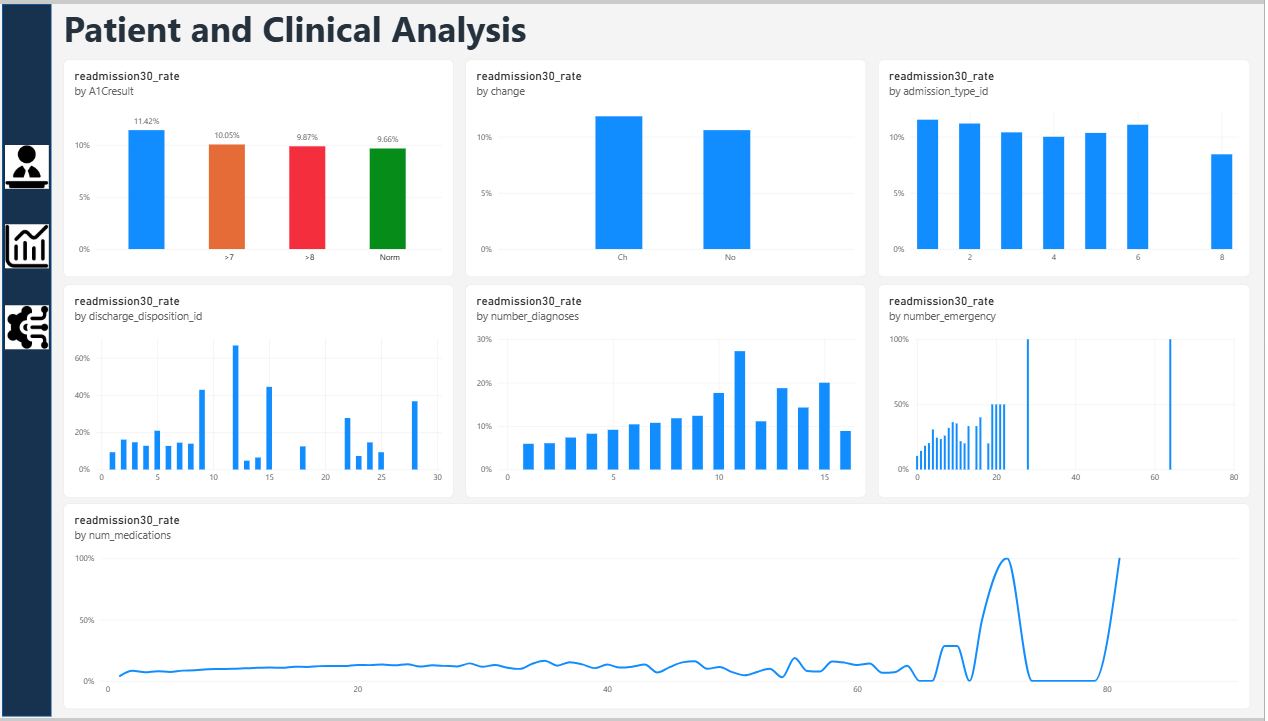

Layout of this report page (visuals, bound fields, positions):
{"tool":"powerbi","page":{"name":"Patient and Clinical Analysis","canvas":[1920,1080],"ordinal":1},"visuals":[{"type":"shape","box":[9.1,0,75,1078.9],"z":0},{"type":"textbox","box":[102.2,0,1063,84],"z":2000},{"type":"clusteredColumnChart","fields":{"Category":["diabetic_data_with_diagnosis_category.A1Cresult"],"Y":["diabetic_data_with_diagnosis_category.readmission30_rate"]},"box":[102.2,84,590.5,329.3],"z":3000},{"type":"clusteredColumnChart","fields":{"Category":["diabetic_data_with_diagnosis_category.admission_type_id"],"Y":["diabetic_data_with_diagnosis_category.readmission30_rate"]},"box":[1335.5,84,563.3,329.3],"z":4000},{"type":"clusteredColumnChart","fields":{"Category":["diabetic_data_with_diagnosis_category.change"],"Y":["diabetic_data_with_diagnosis_category.readmission30_rate"]},"box":[710.9,84,606.4,329.3],"z":5000},{"type":"clusteredColumnChart","fields":{"Category":["diabetic_data_with_diagnosis_category.discharge_disposition_id"],"Y":["diabetic_data_with_diagnosis_category.readmission30_rate"]},"box":[102.2,424.7,590.5,322.5],"z":6000},{"type":"clusteredColumnChart","fields":{"Category":["diabetic_data_with_diagnosis_category.number_diagnoses"],"Y":["diabetic_data_with_diagnosis_category.readmission30_rate"]},"box":[710.9,424.7,606.4,322.5],"z":7000},{"type":"lineChart","fields":{"Category":["diabetic_data_with_diagnosis_category.num_medications"],"Y":["diabetic_data_with_diagnosis_category.readmission30_rate"]},"box":[102.2,756.3,1796.6,311.2],"z":8000},{"type":"clusteredColumnChart","fields":{"Category":["diabetic_data_with_diagnosis_category.number_emergency"],"Y":["diabetic_data_with_diagnosis_category.readmission30_rate"]},"box":[1335.5,424.7,563.3,322.5],"z":9000},{"type":"image","box":[13.6,213.5,65.9,65.9],"z":10000},{"type":"image","box":[13.6,333.9,65.9,65.9],"z":11000},{"type":"image","box":[13.6,456.5,65.9,65.9],"z":12000}]}

Visuals, with their boxes on the page's 1920x1080 design canvas (x1, y1, x2, y2). These are canvas units, not pixel positions in the 1268x721 screenshot, which may show the page scaled, cropped or inside an application window:
shape: {"x1": 9, "y1": 0, "x2": 84, "y2": 1079}
textbox: {"x1": 102, "y1": 0, "x2": 1165, "y2": 84}
clusteredColumnChart - diabetic_data_with_diagnosis_category.A1Cresult x diabetic_data_with_diagnosis_category.readmission30_rate: {"x1": 102, "y1": 84, "x2": 693, "y2": 413}
clusteredColumnChart - diabetic_data_with_diagnosis_category.admission_type_id x diabetic_data_with_diagnosis_category.readmission30_rate: {"x1": 1336, "y1": 84, "x2": 1899, "y2": 413}
clusteredColumnChart - diabetic_data_with_diagnosis_category.change x diabetic_data_with_diagnosis_category.readmission30_rate: {"x1": 711, "y1": 84, "x2": 1317, "y2": 413}
clusteredColumnChart - diabetic_data_with_diagnosis_category.discharge_disposition_id x diabetic_data_with_diagnosis_category.readmission30_rate: {"x1": 102, "y1": 425, "x2": 693, "y2": 747}
clusteredColumnChart - diabetic_data_with_diagnosis_category.number_diagnoses x diabetic_data_with_diagnosis_category.readmission30_rate: {"x1": 711, "y1": 425, "x2": 1317, "y2": 747}
lineChart - diabetic_data_with_diagnosis_category.num_medications x diabetic_data_with_diagnosis_category.readmission30_rate: {"x1": 102, "y1": 756, "x2": 1899, "y2": 1068}
clusteredColumnChart - diabetic_data_with_diagnosis_category.number_emergency x diabetic_data_with_diagnosis_category.readmission30_rate: {"x1": 1336, "y1": 425, "x2": 1899, "y2": 747}
image: {"x1": 14, "y1": 214, "x2": 80, "y2": 279}
image: {"x1": 14, "y1": 334, "x2": 80, "y2": 400}
image: {"x1": 14, "y1": 456, "x2": 80, "y2": 522}
